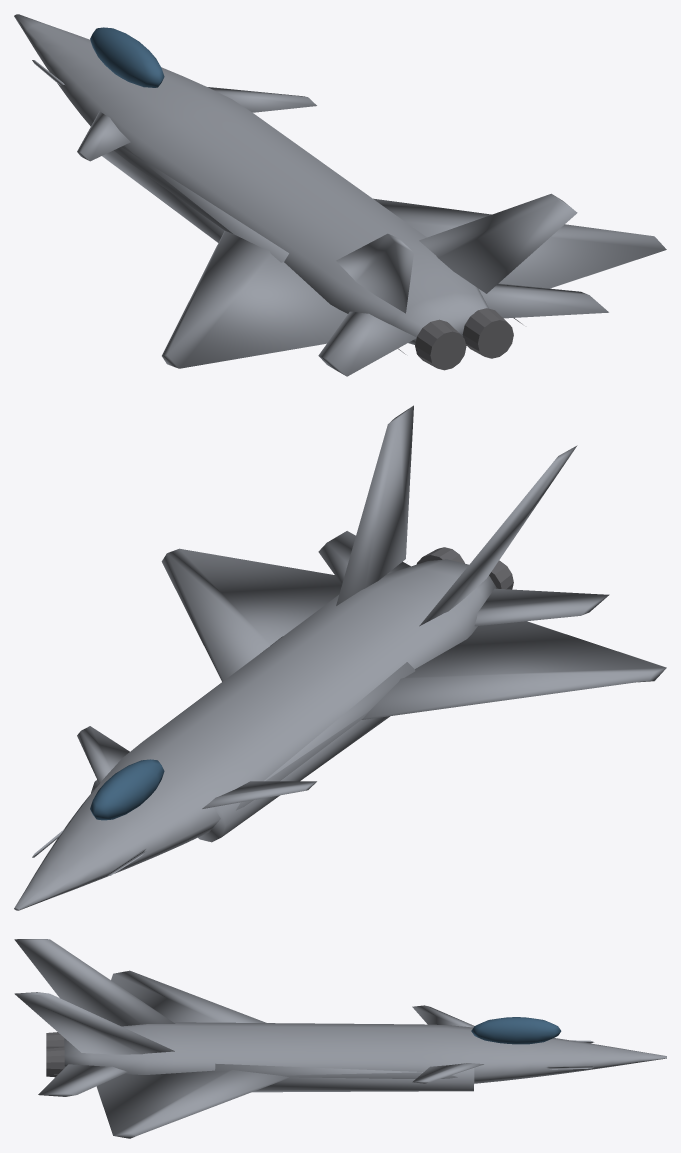
The picture shows the model from 3 angles, top to bottom: view 1: azimuth 30°, elevation 25°; view 2: azimuth 150°, elevation 25°; view 3: azimuth 270°, elevation 25°; orthographic projection. The views are drawn at different scales.
Visible parts, largest first — view 1: Body, Detail, Canopy; view 2: Body, Canopy, Detail; view 3: Body, Canopy, Detail.
Boxes of the visible parts, box(x1,y1,x2,y2) form: Body: box(14, 14, 666, 376); Detail: box(415, 308, 513, 370); Canopy: box(90, 27, 164, 87); Body: box(14, 405, 666, 910); Canopy: box(90, 759, 164, 820); Detail: box(416, 547, 513, 589); Body: box(14, 939, 666, 1138); Canopy: box(471, 1017, 561, 1044); Detail: box(46, 1032, 64, 1077).
Size of the model in its own units: 1350 by 425 by 2298.
